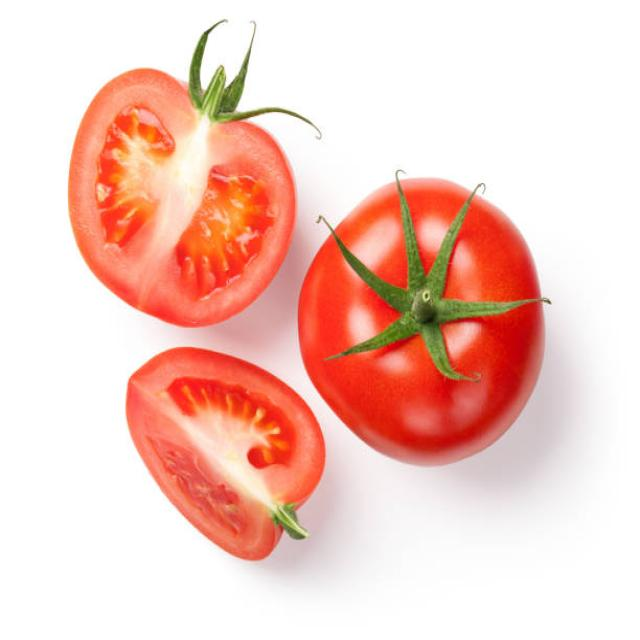Tomato: (292, 152, 571, 486), (66, 25, 297, 333), (116, 306, 334, 585)
